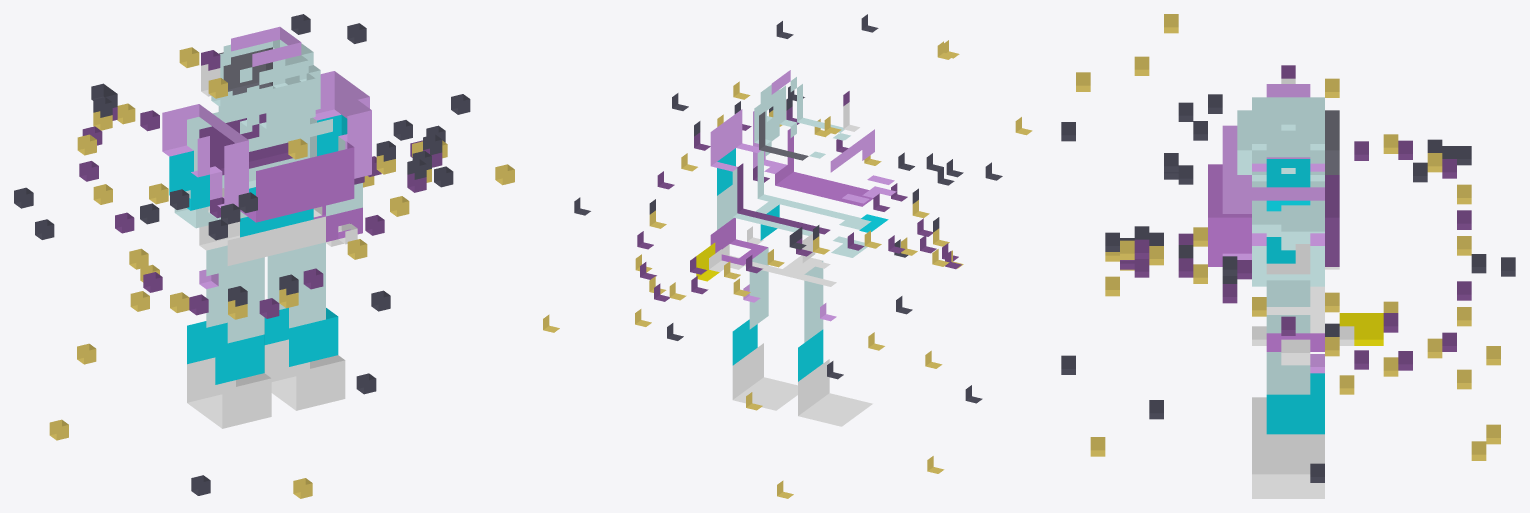
Rendered from nova.glb.
The picture shows the model from 3 angles, left to right: view 1: azimuth 30°, elevation 25°; view 2: azimuth 150°, elevation 25°; view 3: azimuth 270°, elevation 25°; orthographic projection. The views are drawn at different scales.
Visible parts, largest first — view 1: Character; view 2: Character; view 3: Character.
Boxes of the visible parts, box(x1,y1,x2,y2) form: Character: box(14, 14, 514, 498); Character: box(543, 14, 1032, 498); Character: box(1061, 14, 1515, 498).
Bounding box in the file's own units: 1.93 × 1.93 × 1.93.
